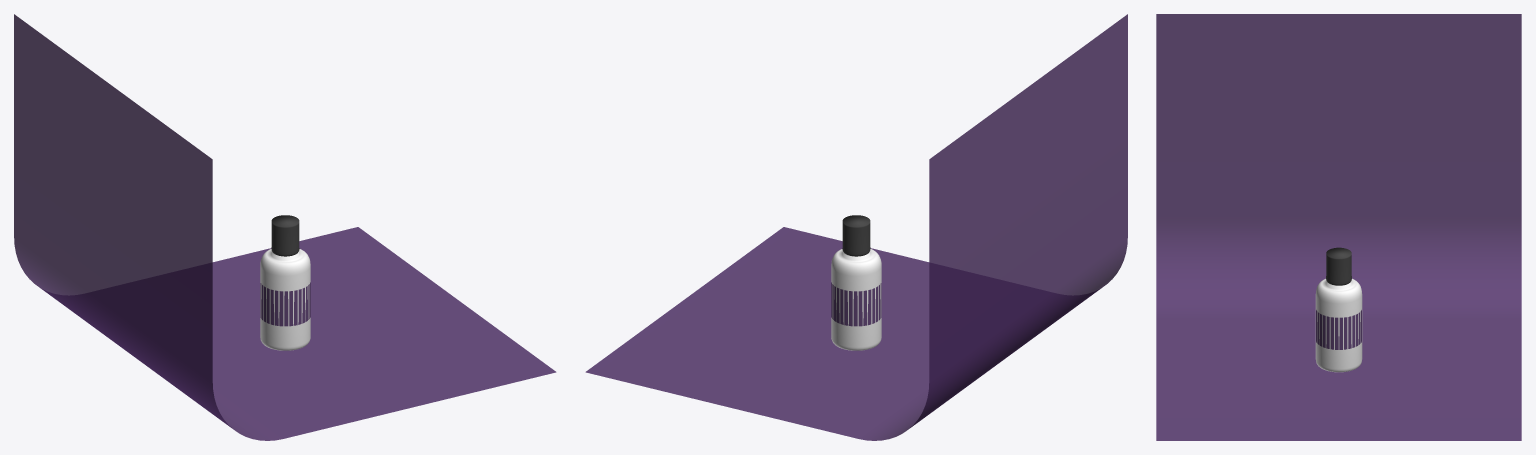
File: Perfume.glb
The picture shows the model from 3 angles, left to right: view 1: azimuth 30°, elevation 25°; view 2: azimuth 150°, elevation 25°; view 3: azimuth 270°, elevation 25°; orthographic projection. The views are drawn at different scales.
Visible parts, largest first — view 1: Back Ground, Bottle, Cylinder, Lid; view 2: Back Ground, Bottle, Cylinder, Lid; view 3: Back Ground, Bottle, Cylinder, Lid.
Part boxes in pixels (left/top/right/bottom): Back Ground: left=14, top=14, right=556, bottom=440; Bottle: left=260, top=249, right=310, bottom=350; Cylinder: left=260, top=282, right=310, bottom=326; Lid: left=271, top=215, right=299, bottom=256; Back Ground: left=585, top=14, right=1127, bottom=440; Bottle: left=831, top=249, right=881, bottom=350; Cylinder: left=831, top=282, right=881, bottom=326; Lid: left=842, top=215, right=870, bottom=256; Back Ground: left=1156, top=14, right=1521, bottom=440; Bottle: left=1315, top=278, right=1362, bottom=372; Cylinder: left=1316, top=310, right=1361, bottom=349; Lid: left=1326, top=247, right=1351, bottom=285.
Bounding box in the file's own units: 9.04 × 7.45 × 9.04.
